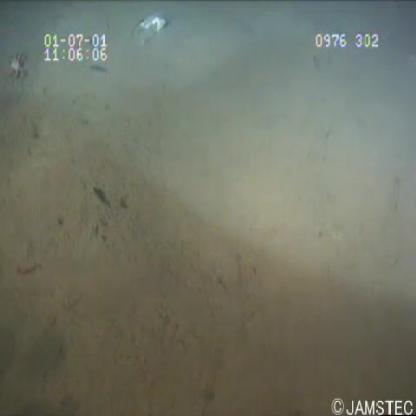Rác: (127, 8, 170, 49)
